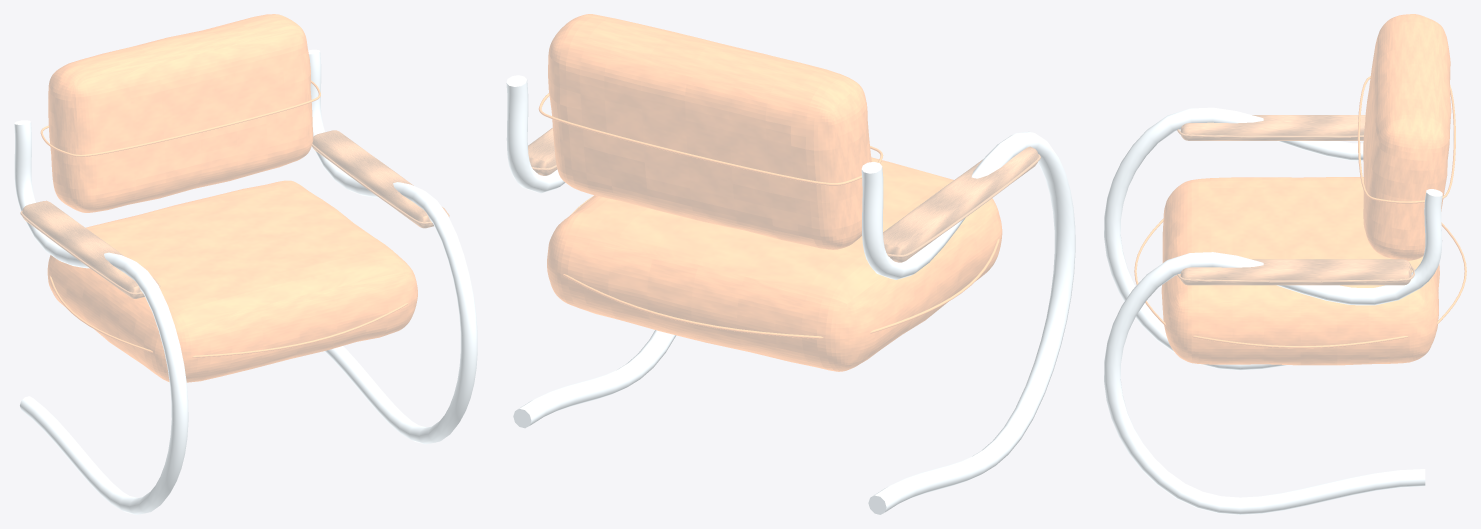
The model's file is ref05_05.glb.
The picture shows the model from 3 angles, left to right: view 1: azimuth 30°, elevation 25°; view 2: azimuth 150°, elevation 25°; view 3: azimuth 270°, elevation 25°; orthographic projection. The views are drawn at different scales.
Visible parts, largest first — view 1: ref05_05; view 2: ref05_05; view 3: ref05_05.
Part boxes in pixels (x1,y1,x2,y2): ref05_05: (14, 14, 477, 514); ref05_05: (506, 14, 1075, 514); ref05_05: (1104, 14, 1466, 514).
Size of the model in its own units: 0.8366 by 0.902 by 0.7853.
3 materials, 2 textured.
